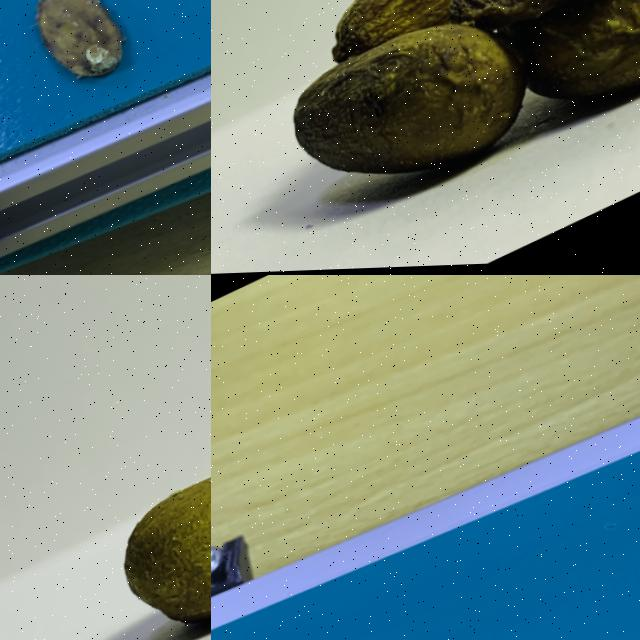Agglomerated_cocoabeans: (211, 0, 639, 274)
Fine_cocoabeans: (33, 332, 210, 639)
Flat_cocoabeans: (0, 0, 210, 149)
